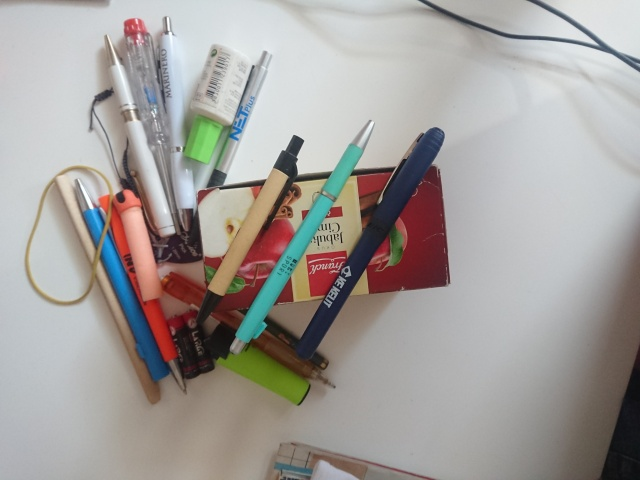Franck Apple Cinnamon Tea 60g: (195, 162, 452, 314)
